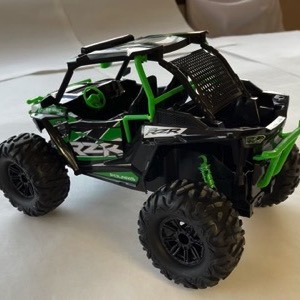polaris: (2, 31, 299, 291)
